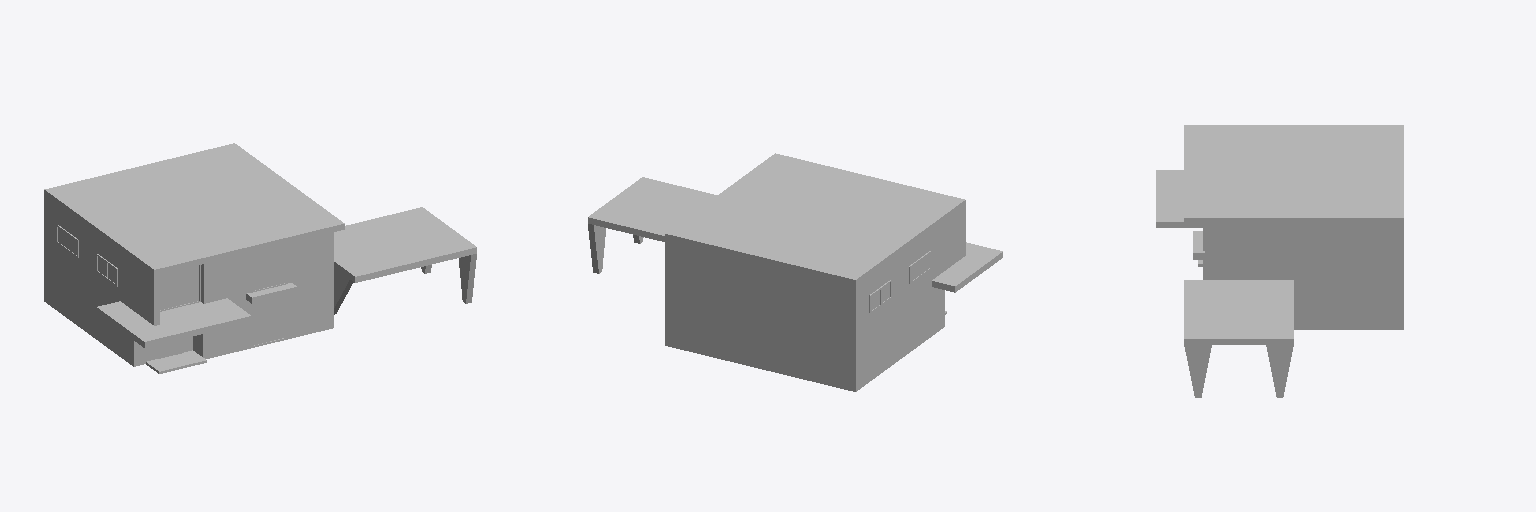
File: house-blue.obj
3 renders of one model, left to right at view 1: azimuth 30°, elevation 25°; view 2: azimuth 150°, elevation 25°; view 3: azimuth 270°, elevation 25°, orthographic.
Parts seen in each view (by area): view 1: Building_House_04_color01; view 2: Building_House_04_color01; view 3: Building_House_04_color01.
Part boxes in pixels (bbox=[...]): Building_House_04_color01: bbox=[44, 143, 476, 373]; Building_House_04_color01: bbox=[588, 153, 1002, 391]; Building_House_04_color01: bbox=[1156, 125, 1403, 397].
Bounding box in the file's own units: 975 × 310 × 603.